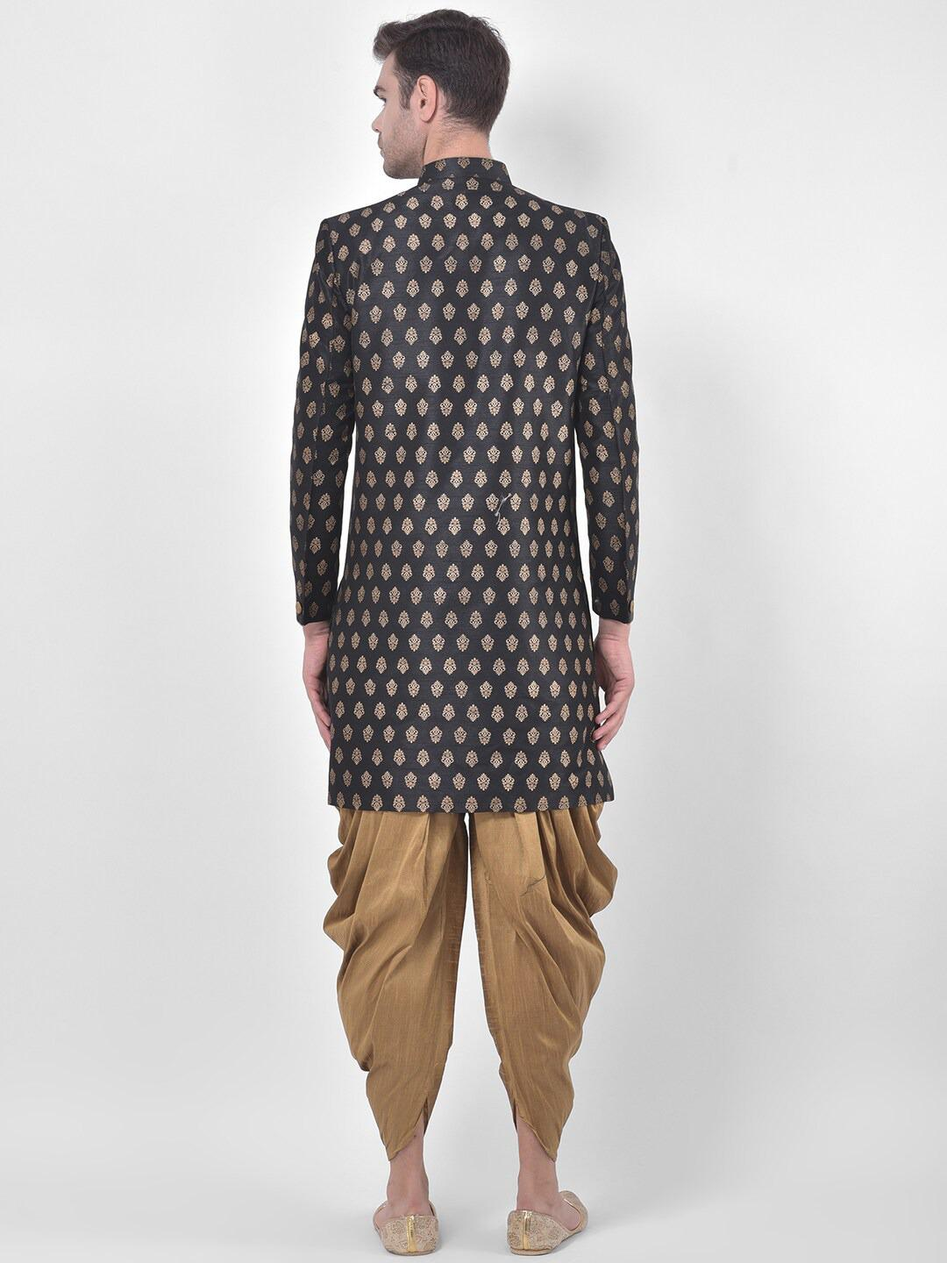Design Sherwani: (284, 156, 640, 815)
